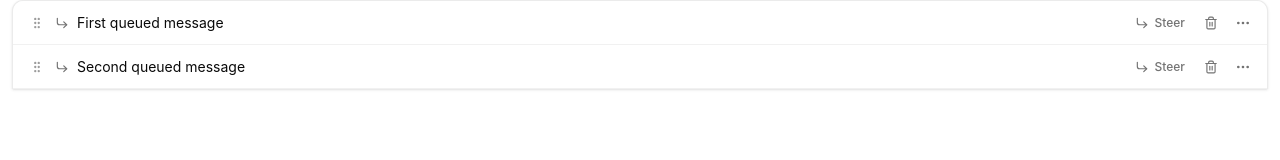
TaskChatQueuedMessages › keeps a too-late discard visible with an explicit error
Click the button with test id "task-chat-queued-discard-comment-1": coordinates (1211, 22) x1=1197 y1=8 x2=1225 y2=36
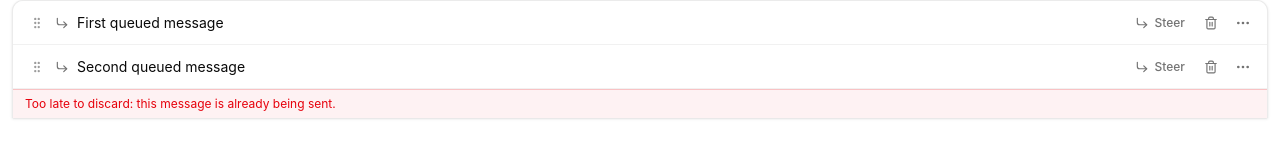
Expected: the element with test id "task-chat-queued-message-comment-1" is shown, x1=13 y1=1 x2=1267 y2=45
Expected: the text "Too late to discard: this message is already being sent." is shown, x1=13 y1=89 x2=1267 y2=118
